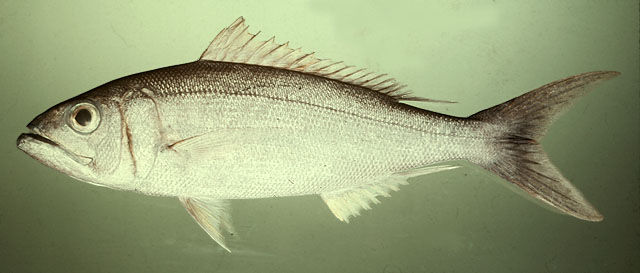fish: (19, 17, 623, 252)
